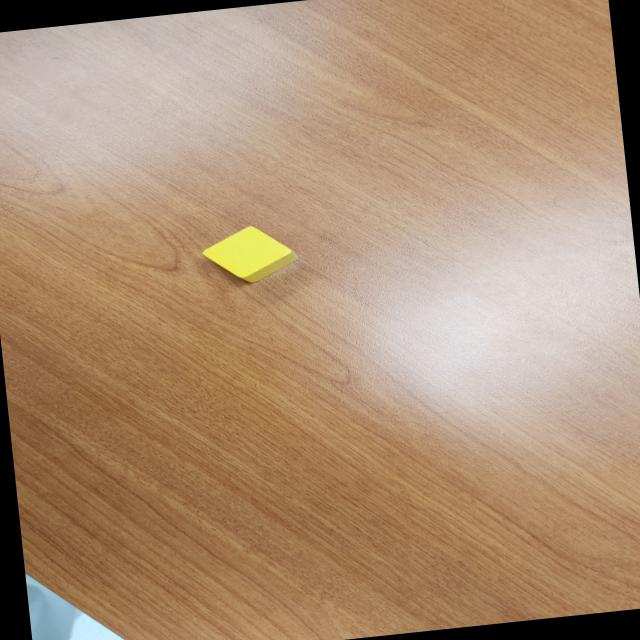yellow: (199, 221, 304, 288)
